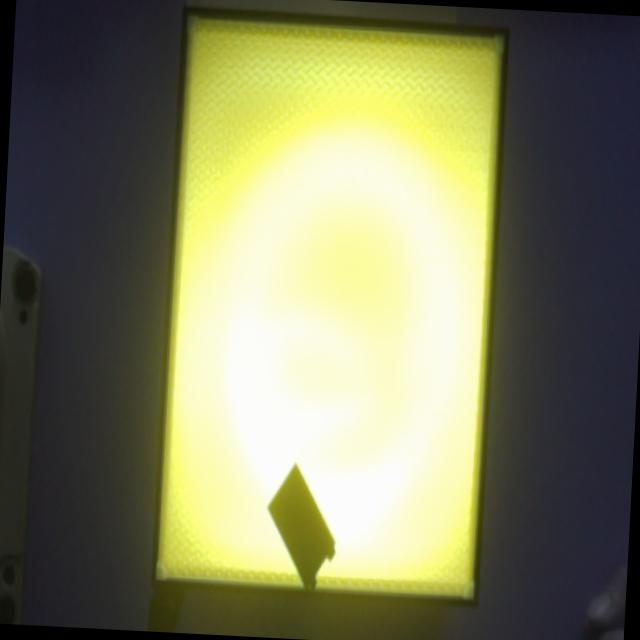bateria: (267, 464, 336, 590)
mesa: (150, 6, 510, 606)
